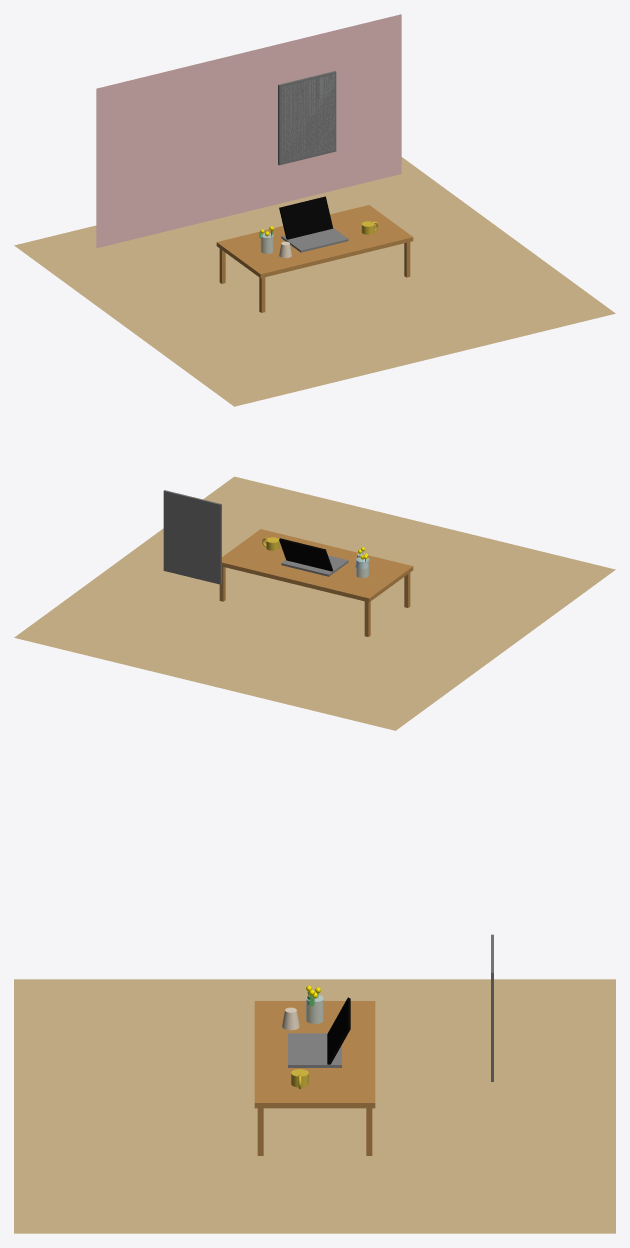
File: laptop2.glb
3 renders of one model, top to bottom at view 1: azimuth 30°, elevation 25°; view 2: azimuth 150°, elevation 25°; view 3: azimuth 270°, elevation 25°, orthographic. The views are drawn at different scales.
Parts seen in each view (by area): view 1: floor, back_wall, desk, window_frame, laptop_screen, laptop_base; view 2: floor, desk, window_frame, laptop_screen, laptop_base; view 3: floor, desk, laptop_base, laptop_screen.
Part boxes in pixels (x1,y1,x2,y2): floor: (14, 157, 615, 406); back_wall: (96, 14, 401, 248); desk: (216, 205, 413, 278); window_frame: (278, 71, 336, 165); laptop_screen: (279, 196, 333, 239); laptop_base: (281, 228, 348, 252); floor: (14, 476, 615, 730); desk: (222, 529, 413, 602); window_frame: (163, 490, 221, 584); laptop_screen: (279, 538, 333, 571); laptop_base: (281, 555, 348, 576); floor: (14, 979, 615, 1233); desk: (254, 1001, 375, 1108); laptop_base: (288, 1033, 341, 1067); laptop_screen: (327, 997, 350, 1064).
Size of the model in its own units: 20 by 9.1 by 20.
